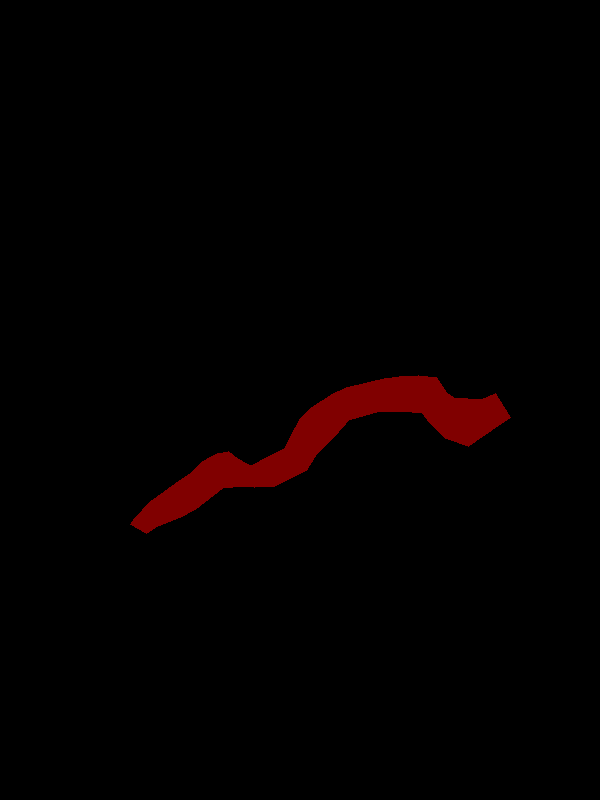fire: (130, 375, 510, 533)
